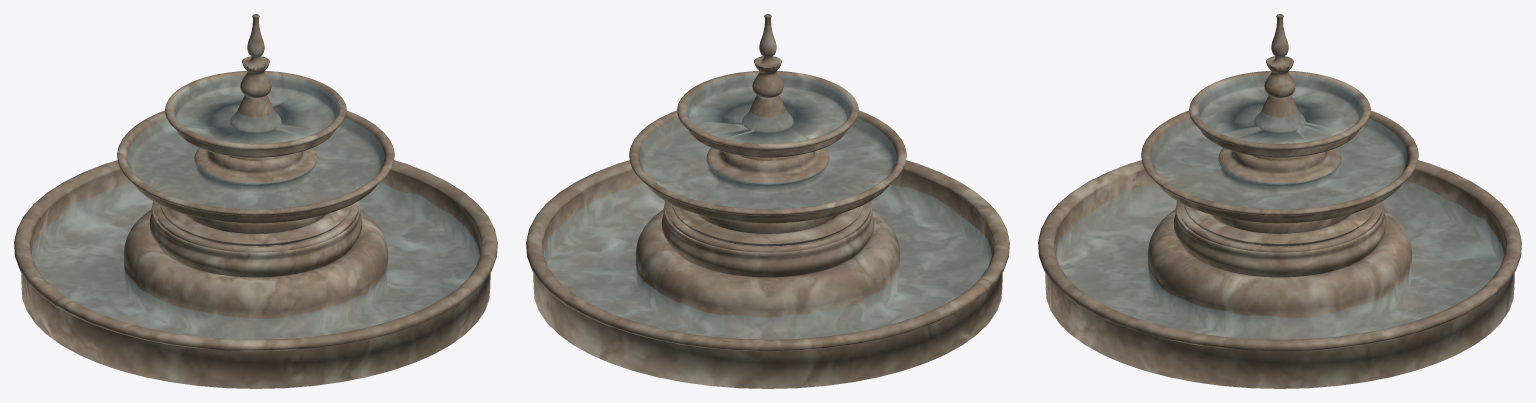
Rendered from PRP_CityFountain.glb.
3 renders of one model, left to right at view 1: azimuth 30°, elevation 25°; view 2: azimuth 150°, elevation 25°; view 3: azimuth 270°, elevation 25°, orthographic.
Visible parts, largest first — view 1: h_1Shape, f_1Shape, f_3Shape, f_2Shape; view 2: h_1Shape, f_1Shape, f_3Shape, f_2Shape; view 3: h_1Shape, f_1Shape, f_3Shape, f_2Shape.
Part boxes in pixels (x1=…): h_1Shape: x1=14, y1=14, x2=497, y2=388; f_1Shape: x1=32, y1=182, x2=479, y2=339; f_3Shape: x1=128, y1=118, x2=384, y2=208; f_2Shape: x1=173, y1=75, x2=338, y2=143; h_1Shape: x1=526, y1=14, x2=1009, y2=388; f_1Shape: x1=544, y1=182, x2=991, y2=339; f_3Shape: x1=640, y1=118, x2=896, y2=208; f_2Shape: x1=685, y1=74, x2=850, y2=143; h_1Shape: x1=1038, y1=14, x2=1521, y2=388; f_1Shape: x1=1056, y1=181, x2=1503, y2=339; f_3Shape: x1=1151, y1=118, x2=1406, y2=208; f_2Shape: x1=1197, y1=74, x2=1362, y2=143.
Bounding box in the file's own units: 1087 × 685 × 1087.
2 materials, 2 textured.
